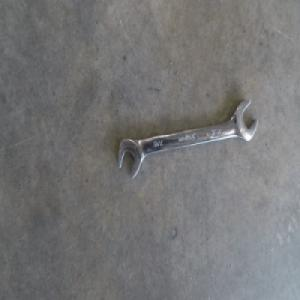Wrench: (111, 99, 252, 180)
